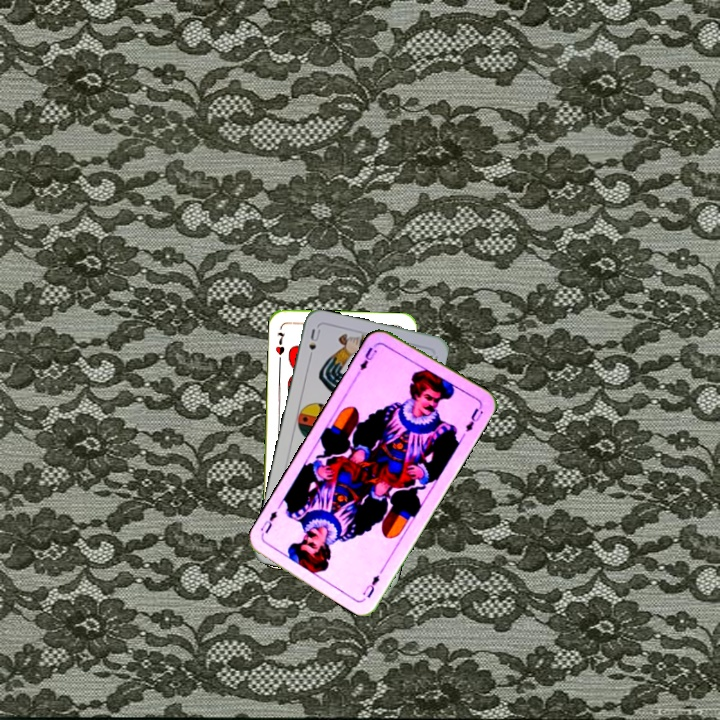EU: (353, 340, 380, 377), (358, 571, 382, 601)
H7: (271, 328, 287, 358)
SU: (305, 325, 323, 364)
